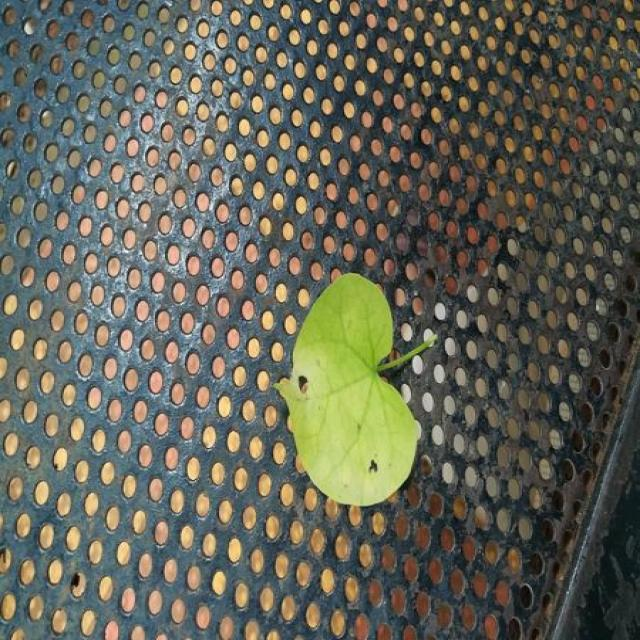Amruthaballi: (275, 274, 417, 506)
defectedAmruthaballi: (275, 335, 417, 506)
